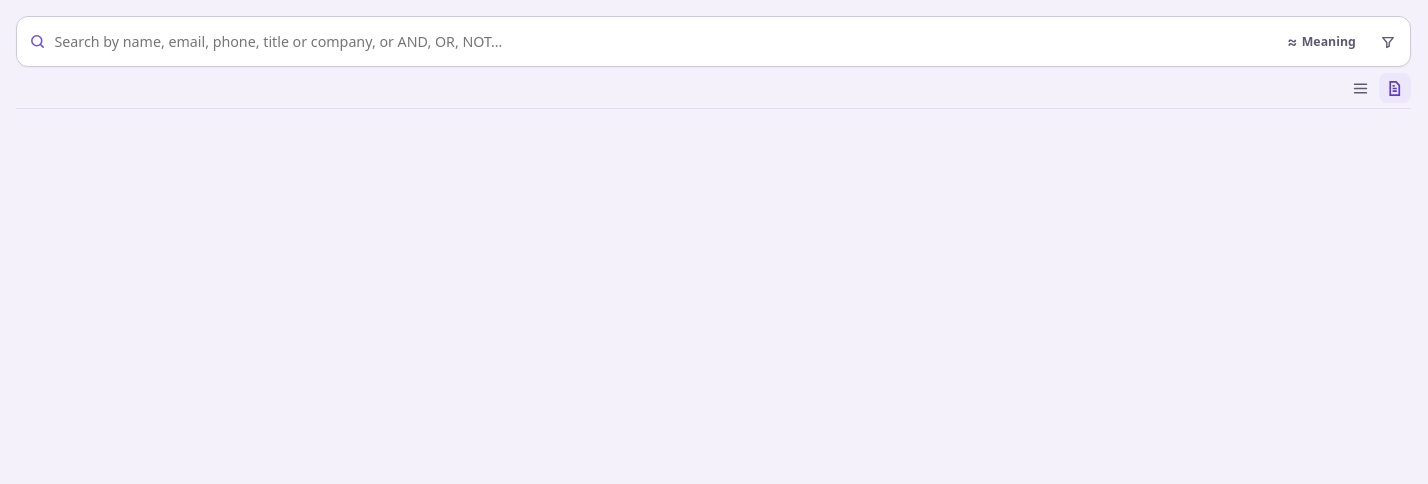
Test: searching candidates by meaning › in Full resume, starts again at the best match when Meaning is switched on, and says why each was found
Replace the text in the field named "Search candidates" with "accounts executive". click: [662, 42]
box: [52, 22, 1272, 62]
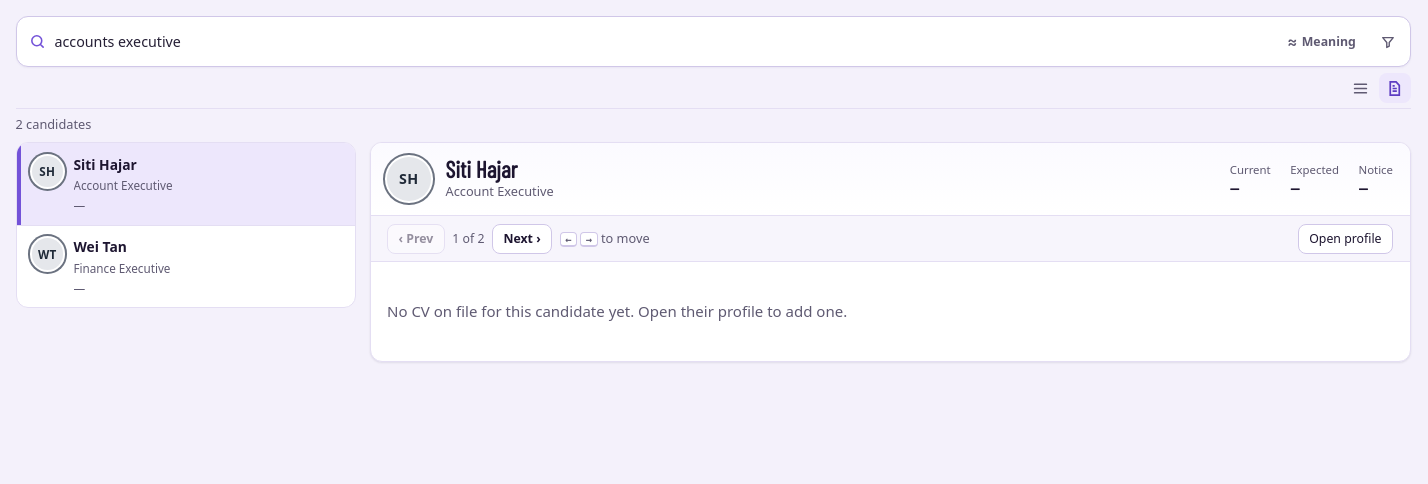
Click the button "WT Wei Tan Finance Executive —". click: [47, 254]
box: [16, 226, 354, 307]
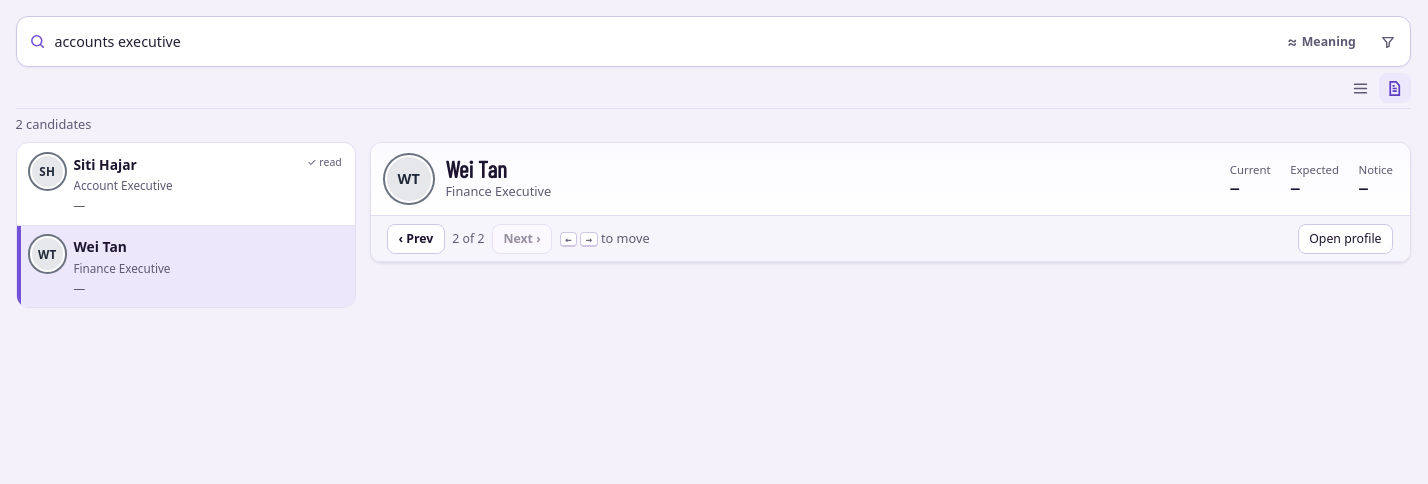
Result: the element named "Resume of Wei Tan" is shown at [370, 142, 1410, 263]
Click the button "≈ Meaning". click: [1321, 42]
box: [1277, 27, 1366, 56]
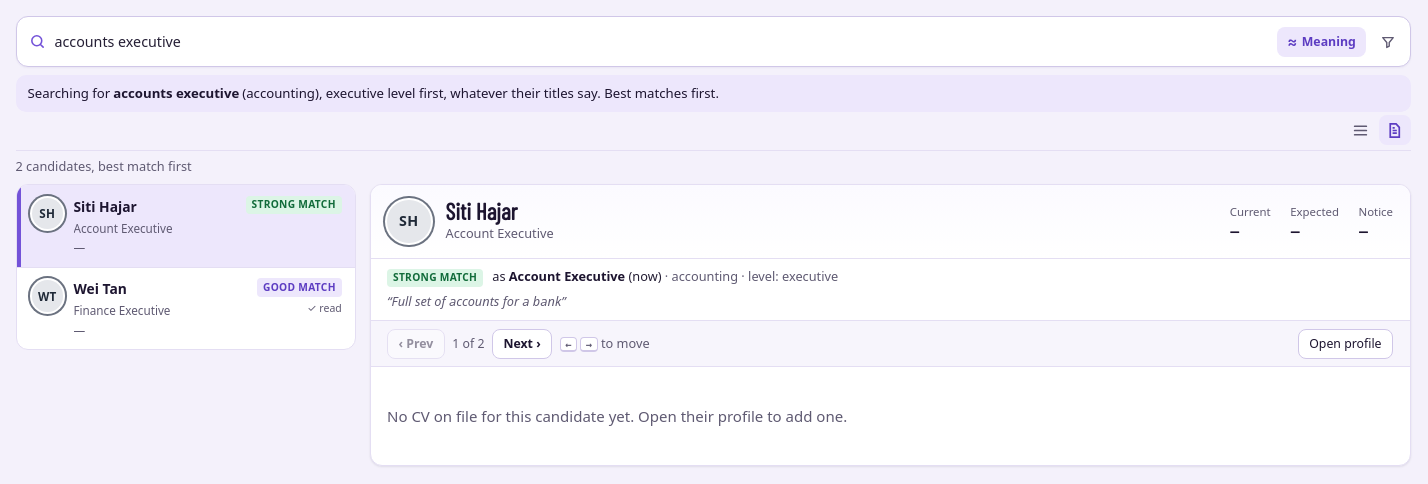
Result: the button "SH Siti Hajar Account Executive — Strong match" is shown at [16, 185, 354, 267]
Result: the button "WT Wei Tan Finance Executive — Good match ✓ read" is shown at [16, 268, 354, 349]
